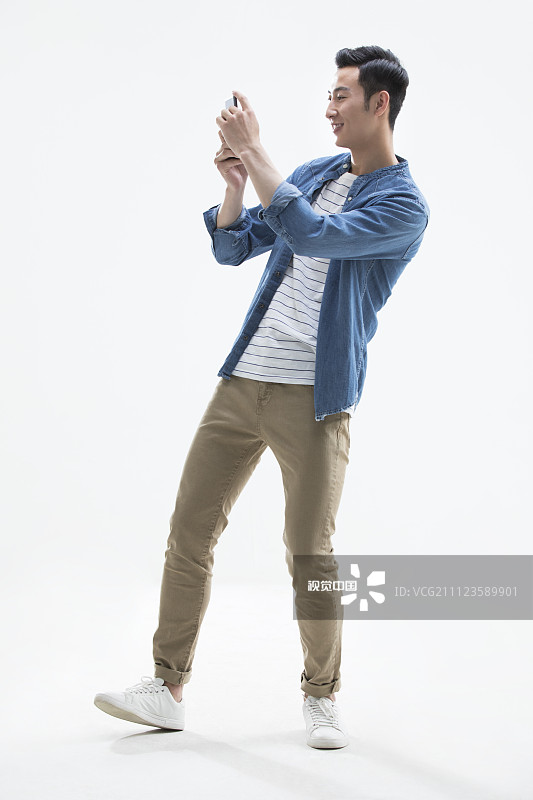taking photos: (197, 77, 274, 203)
